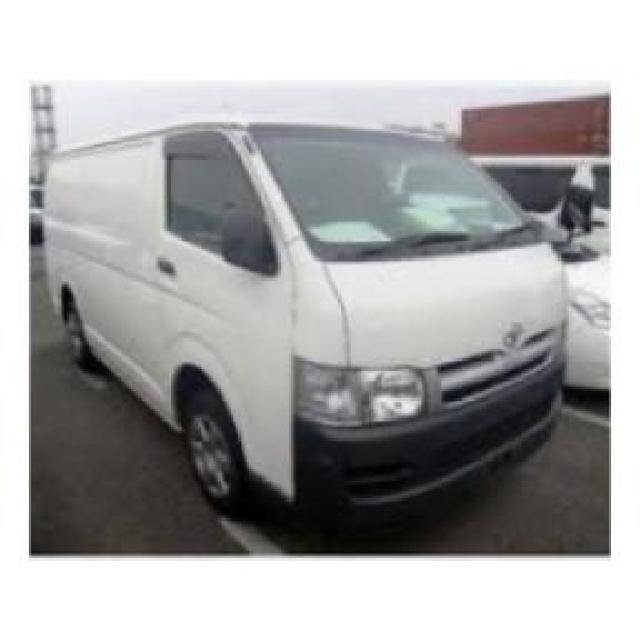Van: (41, 108, 574, 534)
